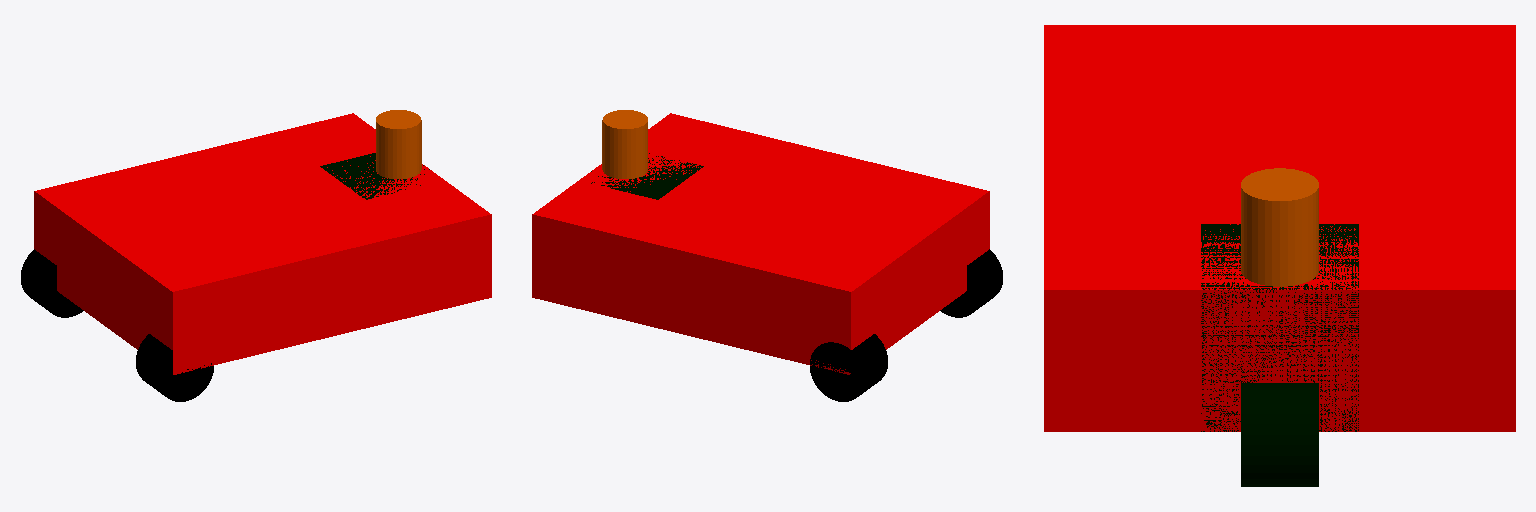
The robot description file, URDF, robot "custom_robot_3":
<?xml version="1.0"?>
<robot name="custom_robot_3">
    <link name="base_link">
        <visual>
            <geometry>
                <box size="0.4 0.3 0.1"/>
            </geometry>
            <material name="red">
                <color rgba="1 0.0 0.0 1"/>
            </material>
        </visual>

        <collision>
            <geometry>
                <box size="0.4 0.3 0.1"/>
            </geometry>
        </collision>
        
        <inertial>
            <mass value="1.0"/>
            <inertia ixx="0.015" ixy="0" ixz="0" iyy="0.0375" iyz="0.0" izz="0.0375"/>
        </inertial>
    </link>
    
    <link name="front_caster_of_wheel">
        <visual>
            <geometry>
                <box size="0.1 0.1 0.1"/>
            </geometry>
            <material name="green">
                <color rgba="0.0 0.1 0.0 1"/>
            </material>
        </visual>
        
        <collision>
            <geometry>
                <box size="0.1 0.1 0.1"/>
            </geometry>
        </collision>
        
        <inertial>
            <mass value="0.1"/>
            <inertia ixx="0.00083" ixy="0" ixz="0" iyy="0.00083" iyz="0.0" izz="0.000167"/>
        </inertial>
    </link>
    
    <joint name="front_caster_of_wheel_joint" type="fixed"> <!-- continuous -->
        <axis xyz="0.0 0.0 1"/>
        <parent link="base_link"/>
        <child link="front_caster_of_wheel"/>
        <origin xyz="0.15 0.0 0.0" rpy="0.0 0.0 0.0"/>
    </joint>
    
    <link name="front_wheel">
        <visual>
            <geometry>
                <cylinder radius="0.035" length="0.05"/>
            </geometry>
            <material name="black">
                <color rgba="0.0 0.1 0.0 1"/>
            </material>
        </visual>
        
        <collision>
            <geometry>
                <cylinder radius="0.035" length="0.05"/>
            </geometry>
        </collision>
        
        <inertial>
            <mass value="0.1"/>
            <inertia ixx="5.1458e-5" ixy="0" ixz="0" iyy="5.1458e-5" iyz="0.0" izz="6.125e-5"/>
        </inertial>
    </link>

    <joint name="front_wheel_joint" type="fixed">  <!-- continuous -->
        <axis xyz="0.0 0.0 1"/>
        <parent link="front_caster_of_wheel"/>
        <child link="front_wheel"/>
        <origin xyz="0.05 0.0 -0.05" rpy="-1.5708 0.0 0.0"/>
    </joint>
    
    <link name="right_wheel">
        <visual>
            <geometry>
                <cylinder radius="0.035" length="0.05"/>
            </geometry>
            <material name="black">
                <color rgba="0.0 0.0 0.0 1"/>
            </material>
        </visual>
        
        <collision>
            <geometry>
                <cylinder radius="0.035" length="0.05"/>
            </geometry>
        </collision>
        
        <inertial>
            <mass value="0.1"/>
            <inertia ixx="5.1458e-5" ixy="0" ixz="0" iyy="5.1458e-5" iyz="0.0" izz="6.125e-5"/> 
        </inertial>
    </link>
    
    <joint name="right_wheel_joint" type="continuous">
        <axis xyz="0.0 0.0 1"/>
        <parent link="base_link"/>
        <child link="right_wheel"/>
        <origin xyz="-0.1825 -0.125 -0.05" rpy="-1.5708 0.0 0.0"/>
        <!-- x = -0.2825 -->
    </joint>
    
    <link name="left_wheel">
        <visual>
            <geometry>
                <cylinder radius="0.035" length="0.05"/>
            </geometry>
            <material name="black">
                <color rgba="0.0 0.0 0.0 1"/>
            </material>
        </visual>

        <collision>
            <geometry>
                <cylinder radius="0.035" length="0.05"/>
            </geometry>
        </collision>
    
        <inertial>
            <mass value="0.1"/>
            <inertia ixx="5.1458e-5" ixy="0" ixz="0" iyy="5.1458e-5" iyz="0.0" izz="6.125e-5"/>
        </inertial>
    </link>

    <joint name="left_wheel_joint" type="continuous">
        <axis xyz="0.0 0.0 1"/>
        <parent link="base_link"/>
        <child link="left_wheel"/>
        <origin xyz="-0.1825 0.125 -0.05" rpy="-1.5708 0.0 0.0"/>
        <!-- x = -0.2825 -->
    </joint>

    <link name="thermal_frame">
        <visual>
            <geometry>
                <cylinder radius="0.025" length="0.07"/>
                <!-- <box size="0.05 0.05 0.05"/> -->
            </geometry>
        </visual>
        
        <collision>
            <geometry>
                <box size="0.1 0.1 0.1"/>
            </geometry>
        </collision>

        <inertial>
            <mass value="1e-3"/>
            <inertia ixx="1e-5" ixy="0" ixz="0.0" iyy="1e-5" iyz="0.0" izz="1e-5"/>
        </inertial>
    </link>

    <joint name="thermal_joint" type="fixed">
        <axis xyz="0.0 0.0 1.0"/>
        <origin xyz="0.17 0.0 0.075" rpy="0.0 0.0 0.0"/>
        <parent link="base_link"/>
        <child link="thermal_frame"/>
        <axis xyz="0.0 0.0 0.0"/>
        <limit lower="0.0" upper="0.0" effort="0.0" velocity="0.0"/>
    </joint>

    <link name="laser_scanner"/>
    <joint name="laser_joint" type="fixed">
        <parent link="base_link"/>
        <child link="laser_scanner"/>
        <origin xyz="0.0 0.0 0.0" rpy="0.0 0.0 0.0"/>
    </joint>
    

    <!-- <transmission name="laser_joint_trans" type="SimpleTransmission">
        <type>transmission_interface/SimpleTransmission</type>
        <actuator name="laser_joint_motor">
            <hardwareInterface>hardware_interface/EffortJointInterface</hardwareInterface>
            <mechanicalReduction>1</mechanicalReduction>
        </actuator>
        <joint name="laser_joint">
            <hardwareInterface>hardware_interface/EffortJointInterface</hardwareInterface>
        </joint>
    </transmission> -->


    <gazebo>
        <plugin name="differential_drive_controller"
            filename="libgazebo_ros_diff_drive.so">
            <legacyMode>false</legacyMode>
            <alwaysOn>true</alwaysOn>
            <updateRate>20</updateRate>
            <leftJoint>left_wheel_joint</leftJoint>
            <rightJoint>right_wheel_joint</rightJoint>
            <robotBaseFrame>base_link</robotBaseFrame>
            <wheelSeparation>0.25</wheelSeparation>
            <wheelDiameter>0.07</wheelDiameter>
            <wheelTorque>0.1</wheelTorque>
            <commandTopic>cmd_vel</commandTopic>
            <odometryTopic>odom</odometryTopic>
            <odometryFrame>odom</odometryFrame>
            <publishWheelJointState>true</publishWheelJointState>
            <publishOdomTF>true</publishOdomTF>
        </plugin>
    </gazebo>
    <gazebo reference="thermal_frame">
        <sensor type="camera" name="thermal_camera_sensor">
            <updateRate>10</updateRate>
            <camera name="thermal_camera">
                <horizontal_fov> 1.3962634 </horizontal_fov>
                <image>
                    <width> 160 </width>
                    <height> 120 </height>
                    <format>R8G8B8</format>
                </image>
                <clip>
                    <near> 0.01 </near>
                    <far> 100 </far>
                </clip>
                <noise>
                    <type> gaussian </type>
                    <mean> 0.0 </mean>
                    <stddev> 0.007 </stddev>
                </noise>
            </camera>
            <plugin name="thermal_camera_controller" filename="libgazebo_ros_camera.so">
                <alwaysOn>true</alwaysOn>
                <updateRate>10</updateRate>
                <imageTopicName>/thermal_camera/image_raw</imageTopicName>
                <cameraInfoTopicName>/thermal_camera/camera_info</cameraInfoTopicName>
                <frameName>thermal_optical_frame</frameName>
                <hackBaseline>0.07</hackBaseline>
                <distortionK1>0.0</distortionK1>
                <distortionK2>0.0</distortionK2>
                <distortionK3>0.0</distortionK3>
                <distortionT1>0.0</distortionT1>
                <distortionT2>0.0</distortionT2>
            </plugin>
        </sensor>
    </gazebo>
    <gazebo reference="laser_scanner">
        <sensor type="ray" name="head_hokuyo_sensor">
            <pose>-0.18 0 0 0 0 0</pose>
            <visualize>true</visualize>
            <update_rate>40</update_rate>
            <ray>
                <scan>
                    <horizontal>
                        <samples>180</samples>
                        <resolution>1</resolution>
                        <min_angle>-0.31</min_angle>
                        <max_angle>0.31</max_angle>
                    </horizontal>
                </scan>
                <range>
                    <min>0.4</min>
                    <max>1.35</max>
                    <resolution>0.01</resolution>
                    <!-- <resolution>0.003</resolution> -->
                </range>
                <noise>
                    <type>gaussian</type>
                    <mean>0.0</mean>
                    <stddev>0.01</stddev>
                </noise>
            </ray>
            <plugin name="gazebo_ros_head_hokuyo_controller" filename="libgazebo_ros_laser.so">
                <topicName>LaserScan</topicName>
                <frameName>laser_scanner</frameName>
            </plugin>
        </sensor>
    </gazebo>
    <gazebo reference="front_wheel">
        <material>Gazebo/Black</material>
        <mu1>0.0</mu1>
        <mu2>0.0</mu2>
        <selfCollide>false</selfCollide>
    </gazebo>
    <gazebo reference="right_wheel">
        <material>Gazebo/Black</material>
    </gazebo>
    <gazebo reference="left_wheel">
        <material>Gazebo/Black</material>
    </gazebo>
    <gazebo reference="base_link">
        <material>Gazebo/Yellow</material>
        <mu1>0.01</mu1>
        <mu2>0.01</mu2>
    </gazebo>
    <gazebo>
        <plugin name="gazebo_ros_control" filename="libgazebo_ros_control.so">
            <!-- <robotNamespace>/</robotNamespace> -->
            <controlPeriod>0.001</controlPeriod>
            <legacyModeNS>false</legacyModeNS>
        </plugin>
    </gazebo>
    <gazebo>
        <plugin name="joint_state_publisher"
            filename="libgazebo_ros_joint_state_publisher.so">
            <jointName>left_wheel_joint, right_wheel_joint</jointName> 
            <!-- , laser_joint</jointName>  -->
            <!-- front_caster_of_wheel_joint, front_wheel_joint -->
        </plugin>
    </gazebo>
</robot>

--- What the picture shows (computed from the rendered views, not written in the file) ---
3 views of the same robot in one strip: view 1: azimuth 30°, elevation 25°; view 2: azimuth 150°, elevation 25°; view 3: azimuth 270°, elevation 25° (orthographic).
Model custom_robot_3 with 7 links and 6 joints (2 continuous, 4 fixed), rooted at base_link, posed every joint at zero.
Visible links, largest first — view 1: base_link, thermal_frame, right_wheel, left_wheel, front_caster_of_wheel; view 2: base_link, left_wheel, thermal_frame, right_wheel, front_caster_of_wheel; view 3: base_link, thermal_frame, front_wheel, front_caster_of_wheel.
Link boxes in pixels (x1,y1,x2,y2): base_link: (34,113,491,374); thermal_frame: (376,110,421,178); right_wheel: (136,334,213,401); left_wheel: (21,249,83,317); front_caster_of_wheel: (320,153,429,199); base_link: (532,113,989,374); left_wheel: (810,334,887,401); thermal_frame: (602,110,647,178); right_wheel: (940,249,1002,317); front_caster_of_wheel: (591,153,703,199); base_link: (1044,25,1515,431); thermal_frame: (1241,168,1318,286); front_wheel: (1241,383,1318,486); front_caster_of_wheel: (1201,224,1358,431).
Bounding box of the posed robot: 0.4525 × 0.3 × 0.195 m (x, y, z).
Geometry: primitives only (box / cylinder / sphere), no mesh files.
